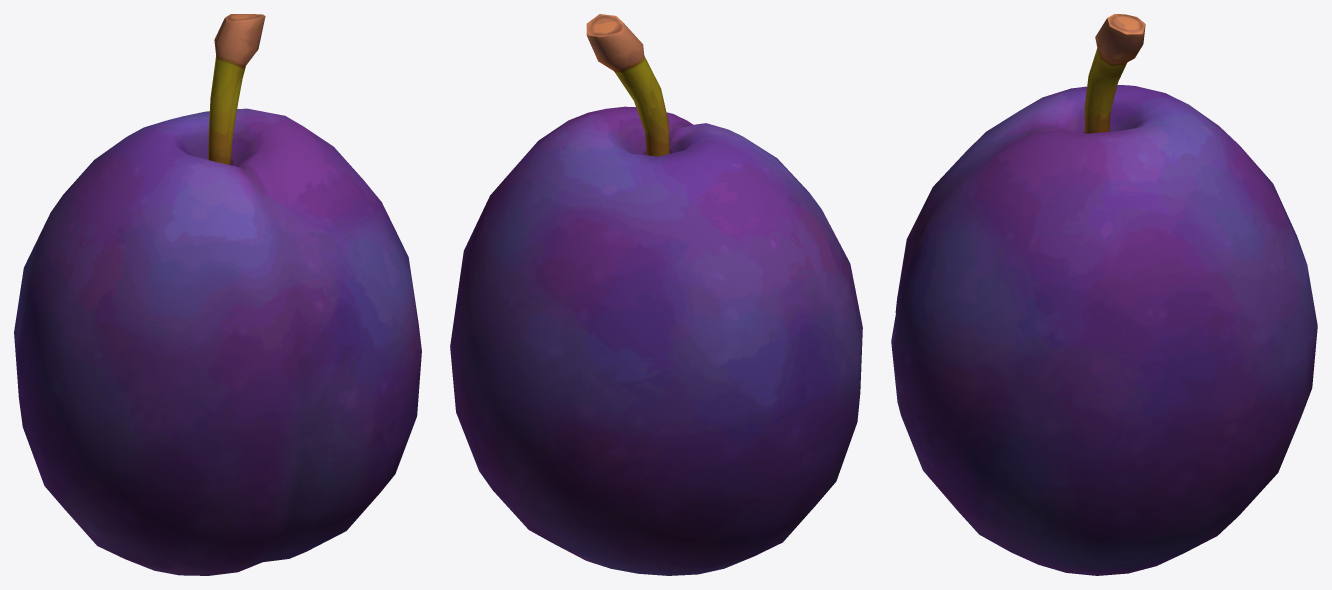
File: SM_Plum.fbx
The picture shows the model from 3 angles, left to right: view 1: azimuth 30°, elevation 25°; view 2: azimuth 150°, elevation 25°; view 3: azimuth 270°, elevation 25°; orthographic projection. The views are drawn at different scales.
Parts seen in each view (by area): view 1: SM_Plum; view 2: SM_Plum; view 3: SM_Plum.
Part boxes in pixels (x1,y1,x2,y2): SM_Plum: [14, 14, 421, 575]; SM_Plum: [450, 14, 862, 575]; SM_Plum: [891, 14, 1317, 575].
Size of the model in its own units: 9.85 by 13.98 by 9.8.
